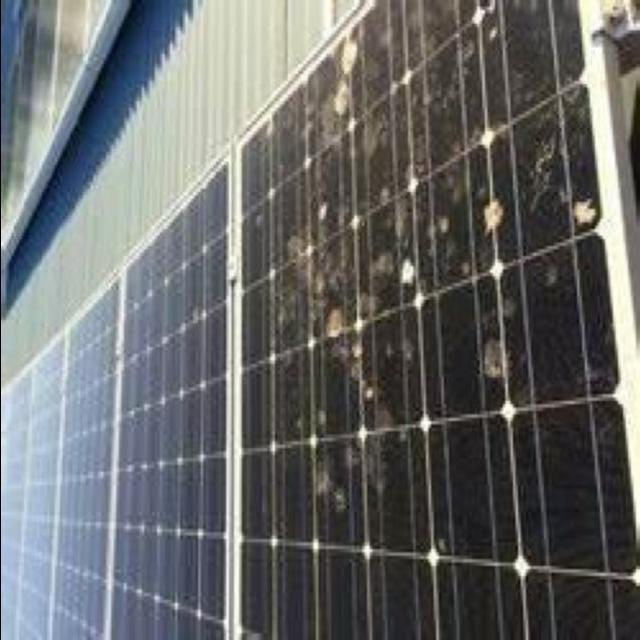soiled: (233, 10, 640, 640)
